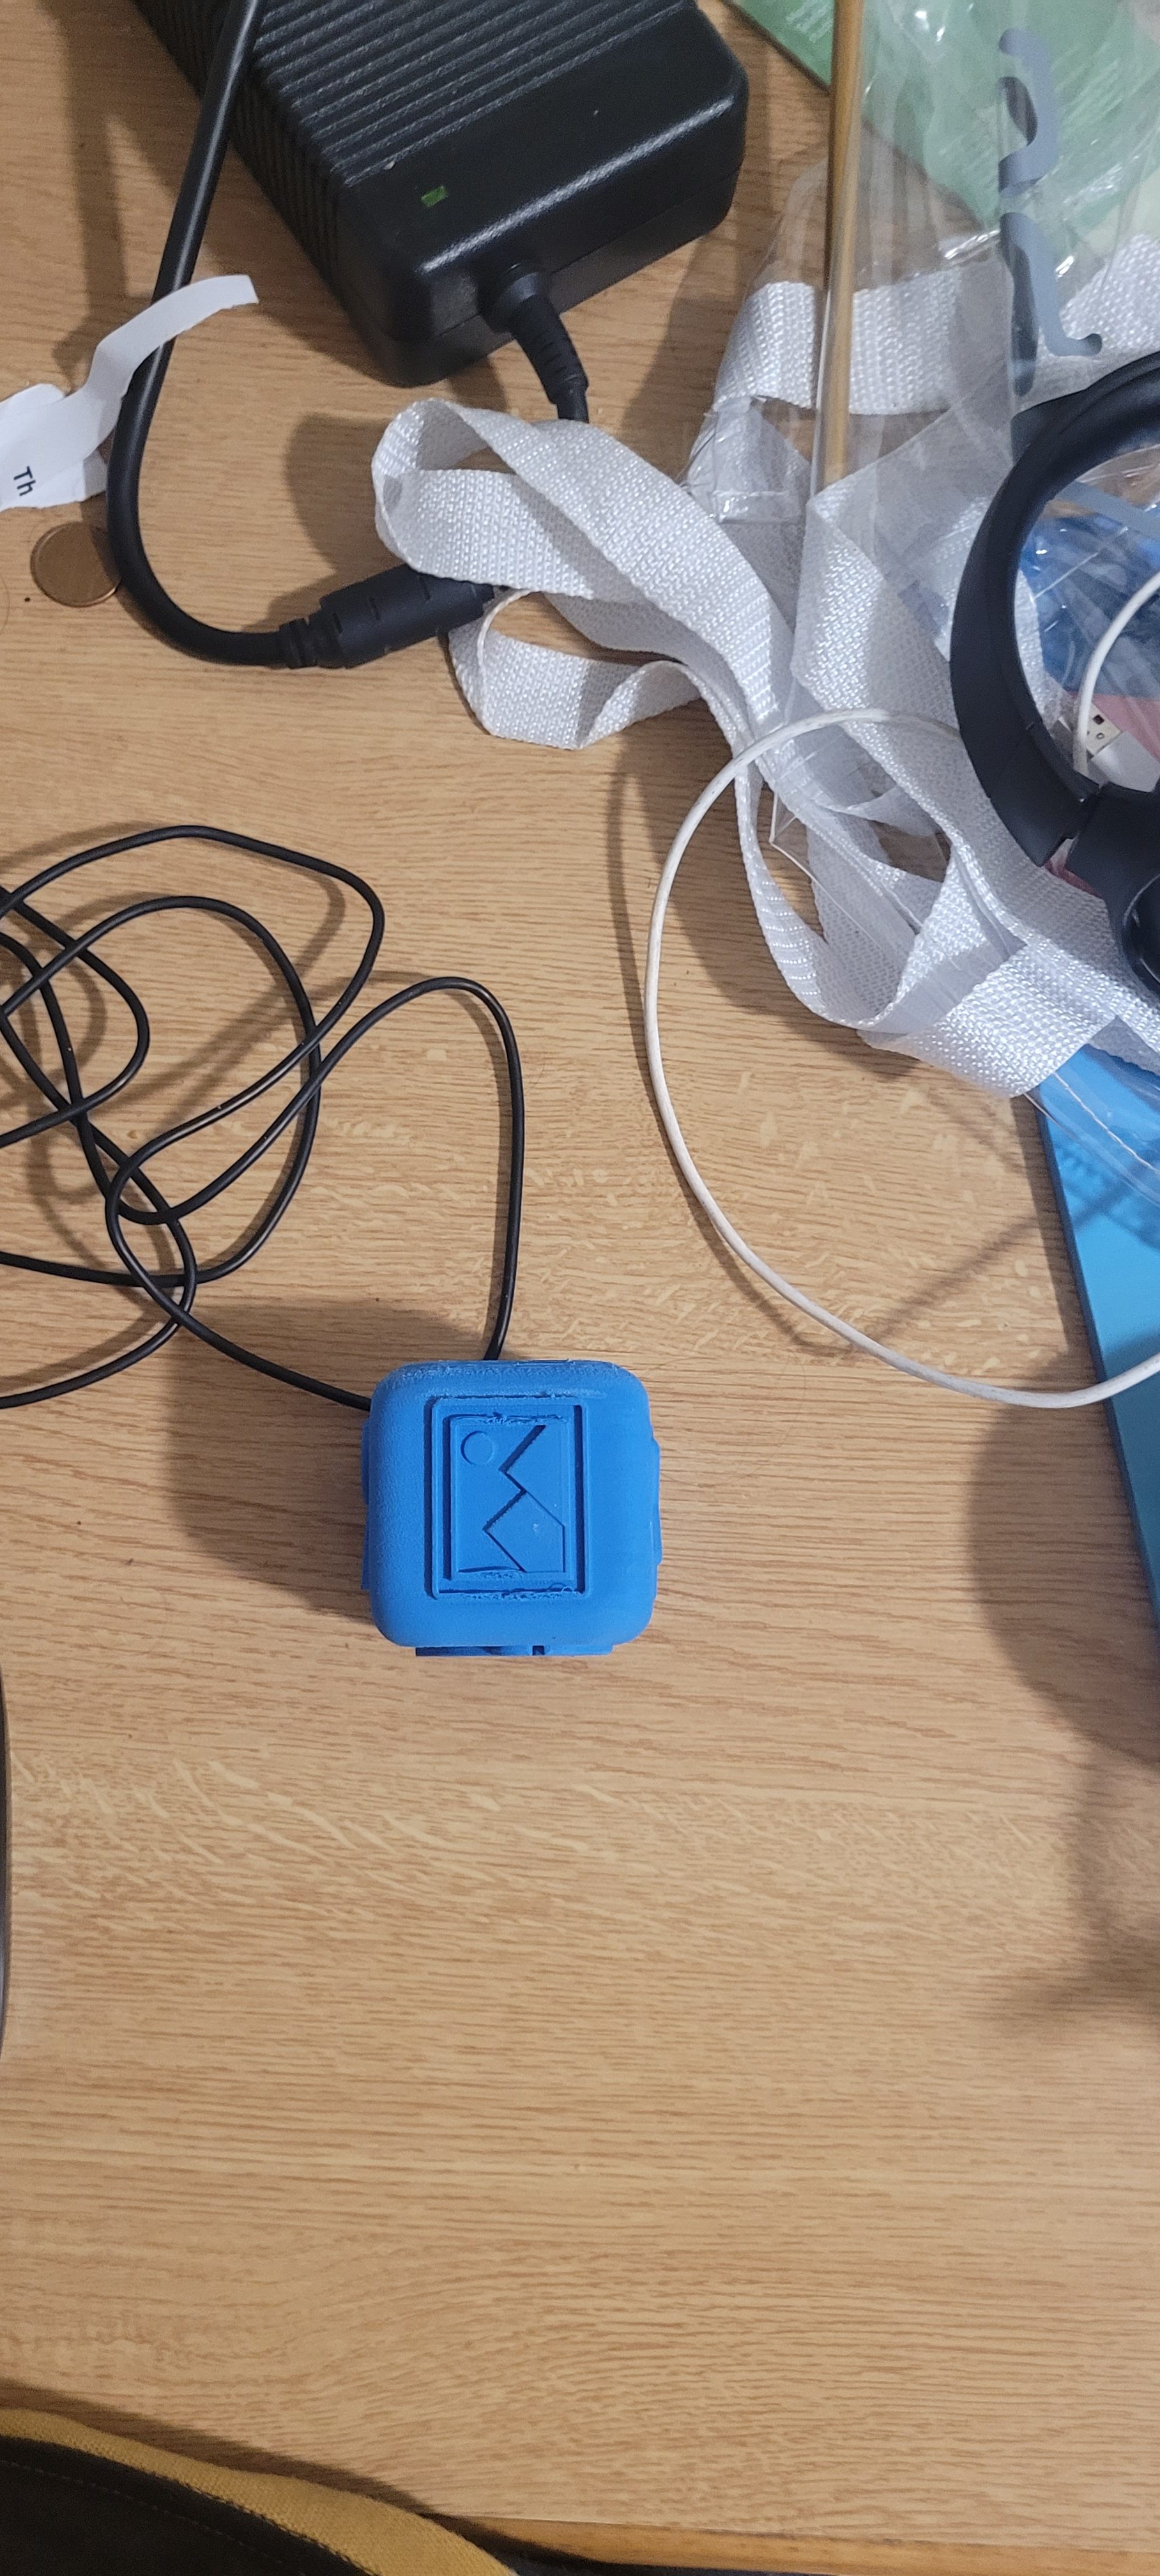Story: (403, 1373, 611, 1633)
